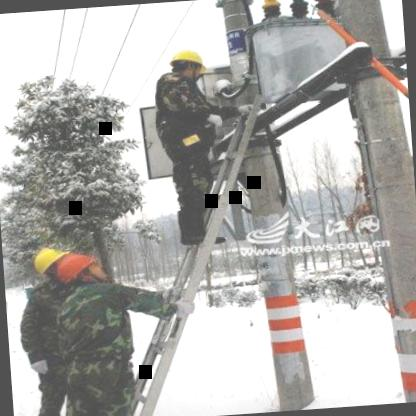helmet: (56, 252, 109, 289), (165, 43, 210, 82), (32, 245, 70, 281)
